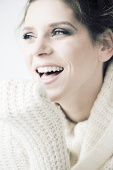female: (15, 5, 106, 103)
